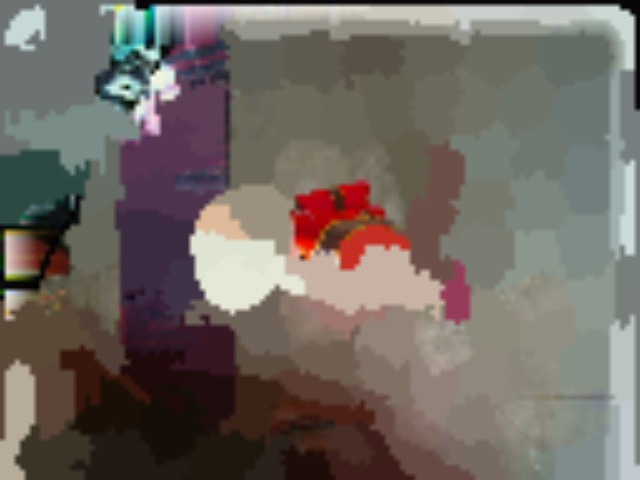two: (207, 190, 248, 204)
